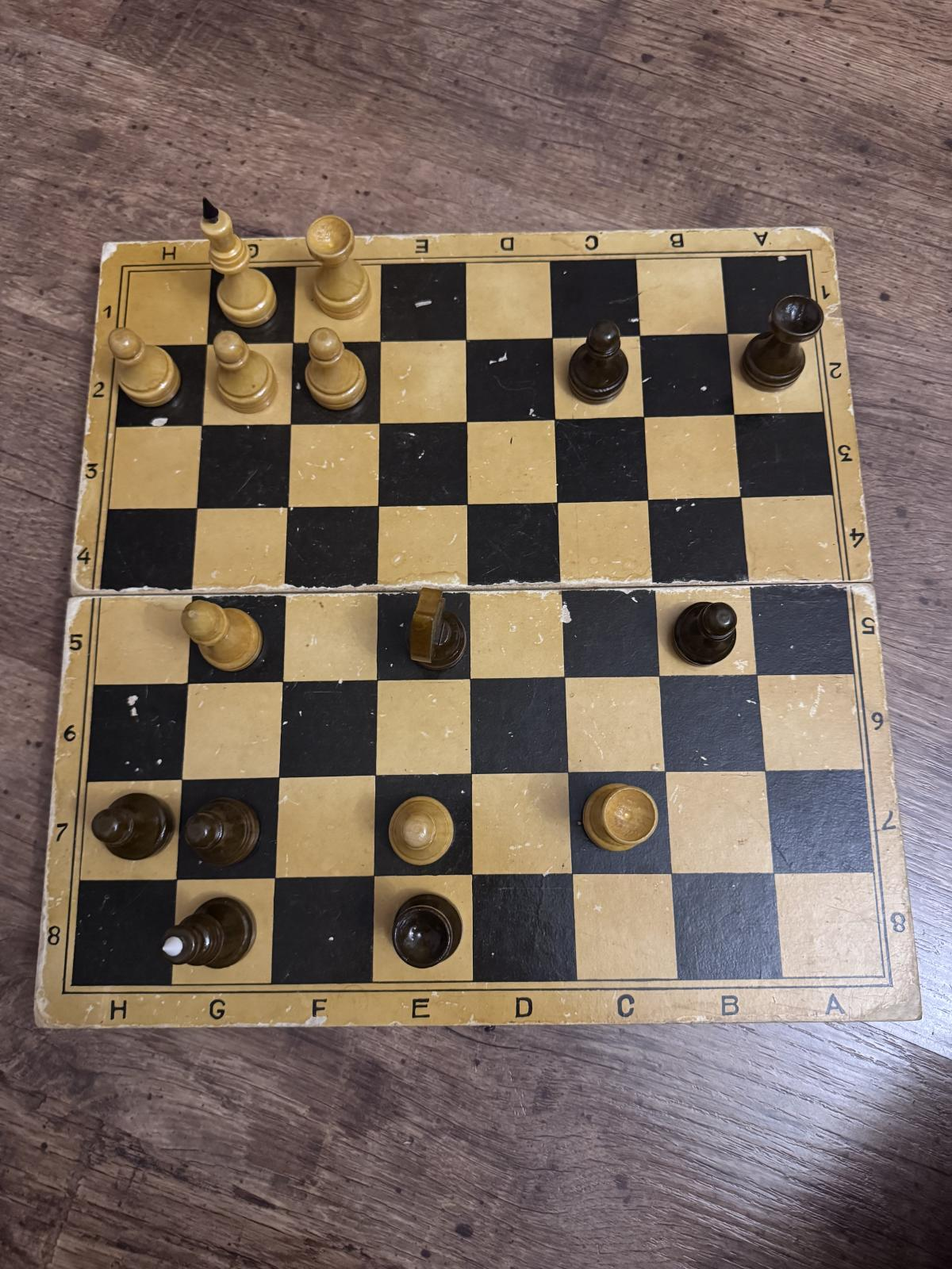Chess-Board: (72, 255, 884, 985)
